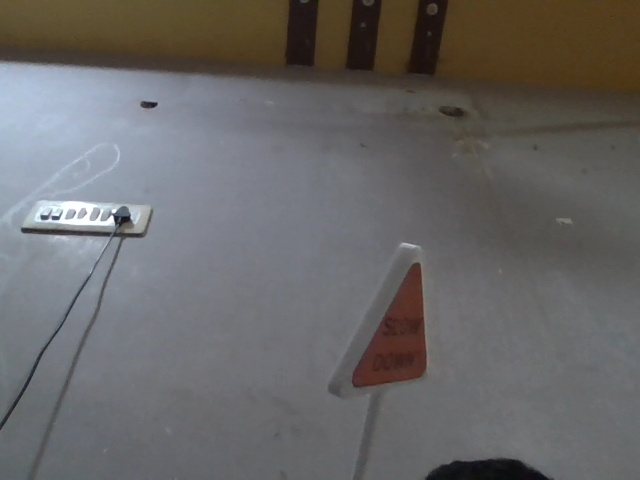slowdown: (329, 241, 440, 384)
